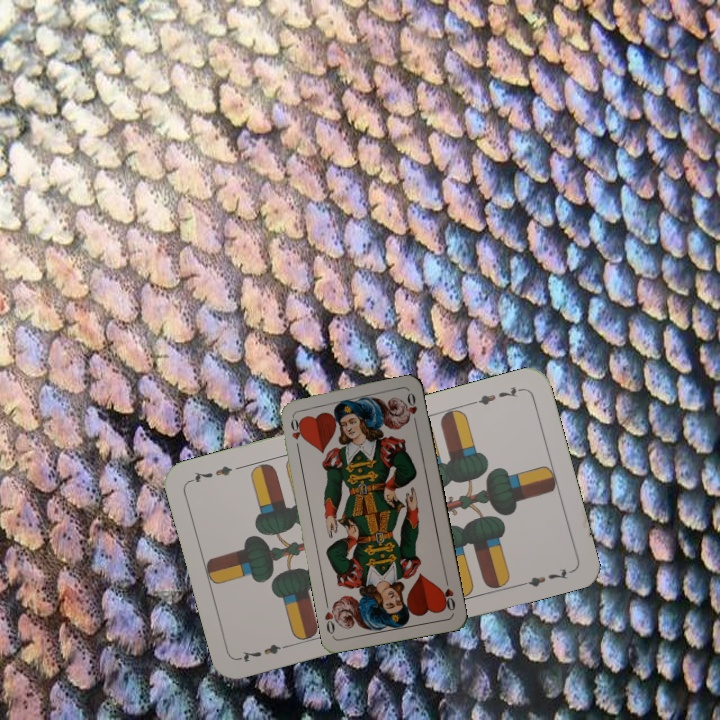E7: (236, 639, 295, 665), (467, 382, 525, 408)
HO: (438, 574, 458, 614), (286, 411, 307, 443)
